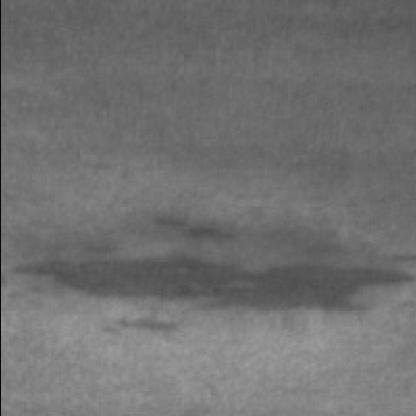inclusion: (4, 244, 410, 350), (141, 202, 238, 252)
